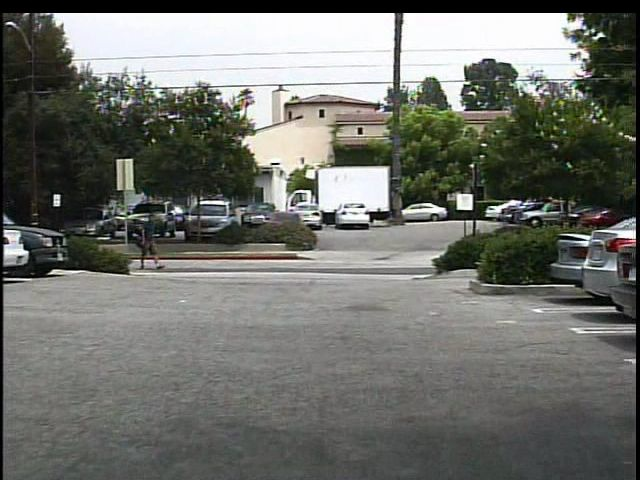person: (138, 213, 166, 273)
